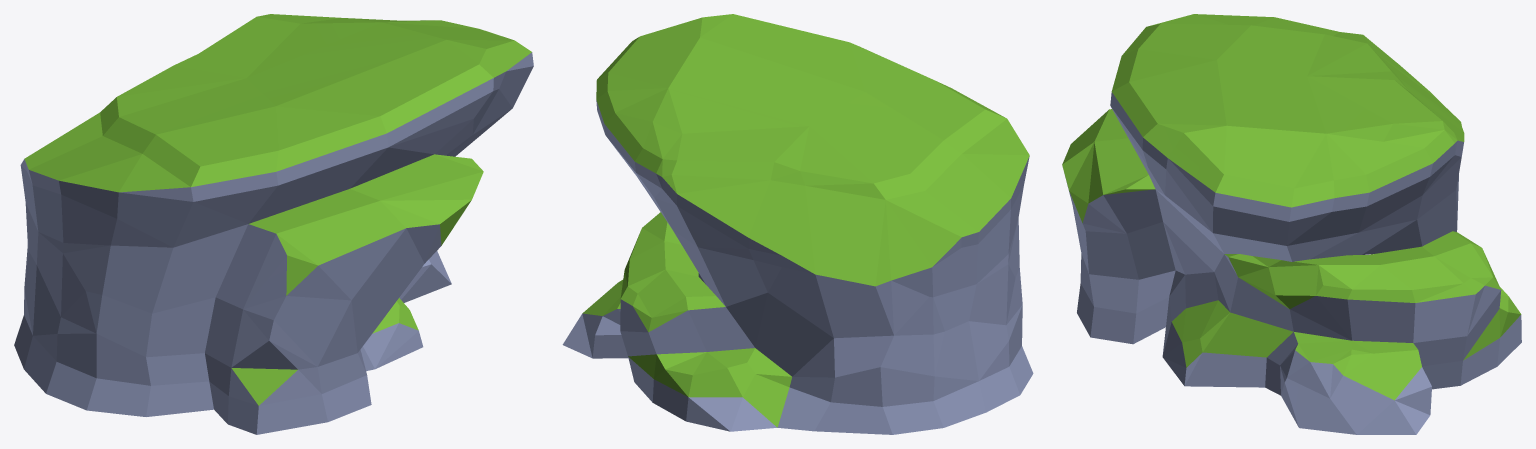
Rendered from Rock_2.fbx.
3 renders of one model, left to right at view 1: azimuth 30°, elevation 25°; view 2: azimuth 150°, elevation 25°; view 3: azimuth 270°, elevation 25°, orthographic. The views are drawn at different scales.
Visible parts, largest first — view 1: Rock_2; view 2: Rock_2; view 3: Rock_2.
Part boxes in pixels (x1,y1,x2,y2): Rock_2: [14, 14, 533, 434]; Rock_2: [562, 14, 1033, 434]; Rock_2: [1062, 14, 1521, 434].
Size of the model in its own units: 10.94 by 6.51 by 9.5.
